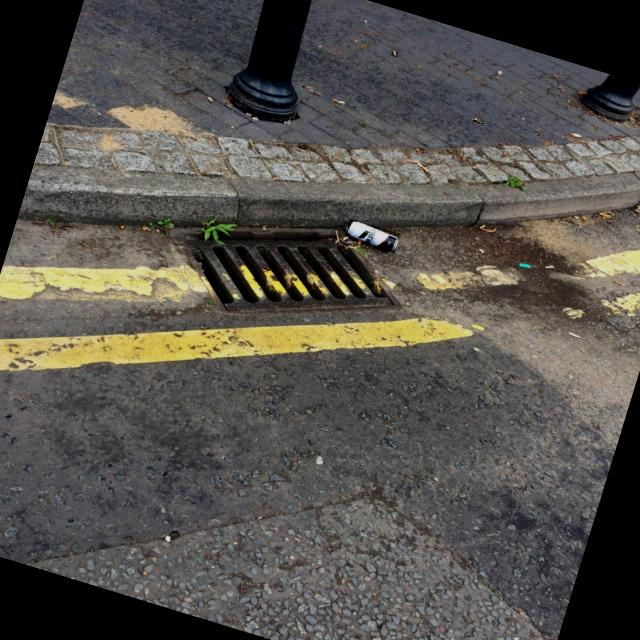Cigarette: (418, 163, 427, 172), (569, 332, 580, 339), (472, 118, 482, 123), (392, 51, 396, 57), (337, 101, 344, 104), (479, 225, 485, 228), (498, 71, 500, 75)
Drink can: (346, 221, 397, 251)
